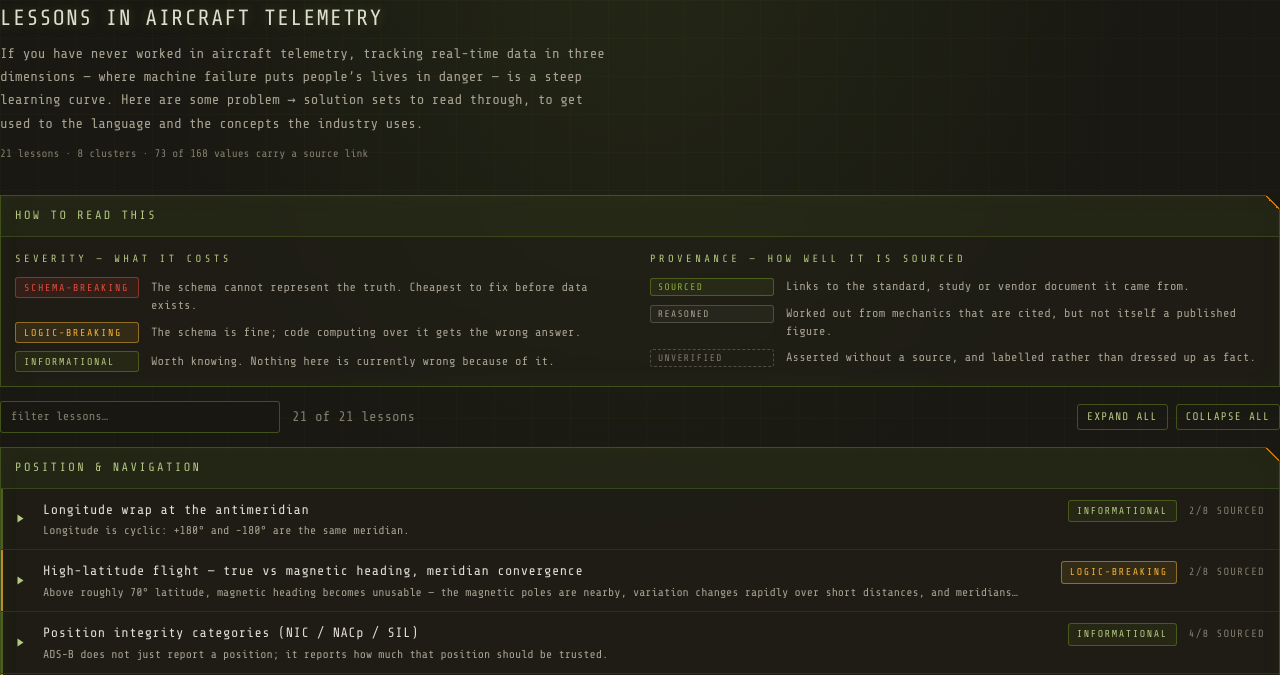
it: Research page › labels every value with how well it is sourced, and links the cited ones
The width and height of the screenshot is (1280, 675).
Click the button that starts with "Longitude wrap at the antimeridian" at x=176, y=509, box 1,488 -> 1279,549
(page scrolled)
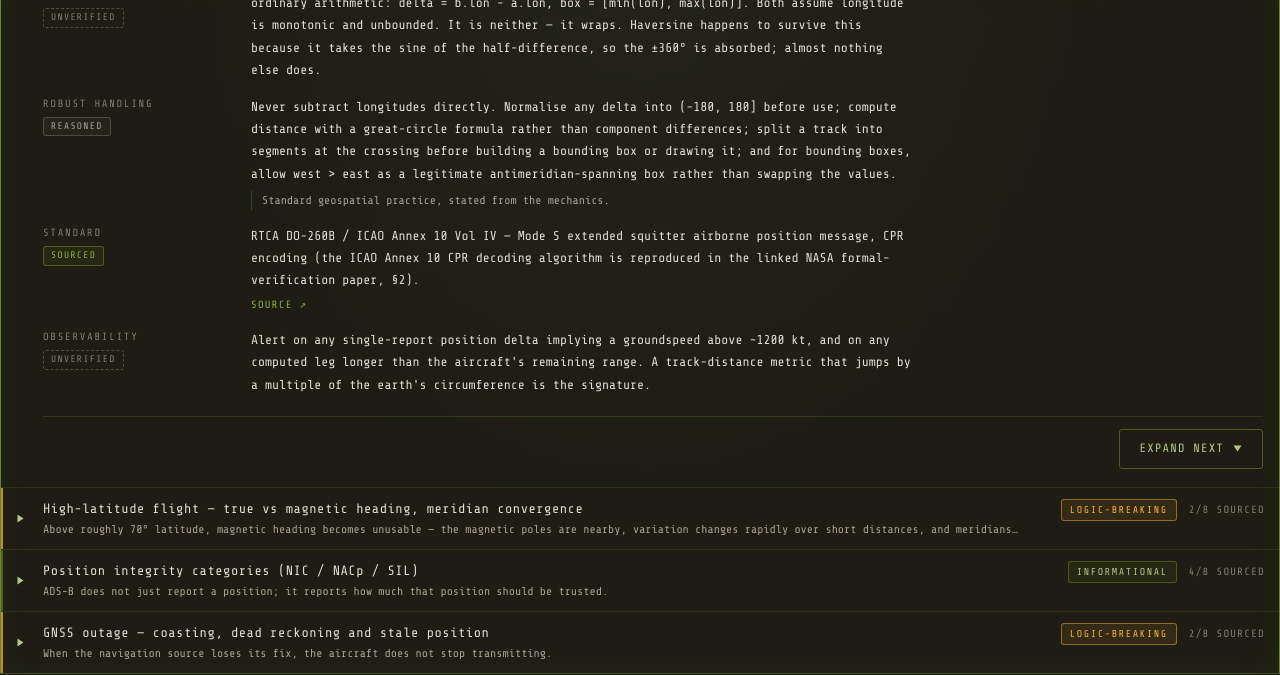
Now the text "unverified" below "Why the naive model breaks" is shown, box 51,12 -> 116,22
Now the text "Robust handling" is shown, box 43,98 -> 153,110
Now the text "reasoned" is shown, box 43,117 -> 111,136
